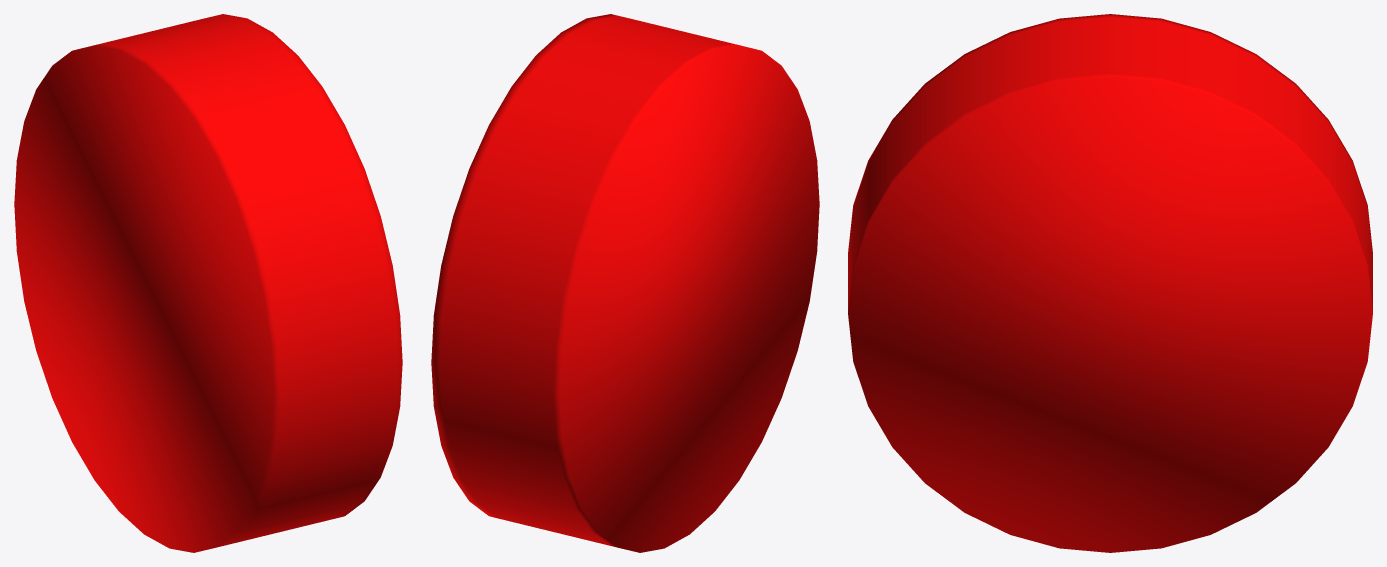
3 views of the same model, side by side, from view 1: azimuth 30°, elevation 25°; view 2: azimuth 150°, elevation 25°; view 3: azimuth 270°, elevation 25° (orthographic).
Parts seen in each view (by area): view 1: girdle_mount_visual; view 2: girdle_mount_visual; view 3: girdle_mount_visual.
Boxes of the visible parts, x1=… form: girdle_mount_visual: x1=14, y1=14, x2=402, y2=552; girdle_mount_visual: x1=431, y1=14, x2=819, y2=552; girdle_mount_visual: x1=848, y1=14, x2=1372, y2=552.
Size of the model in its own units: 0.0513 by 0.1793 by 0.1793.
